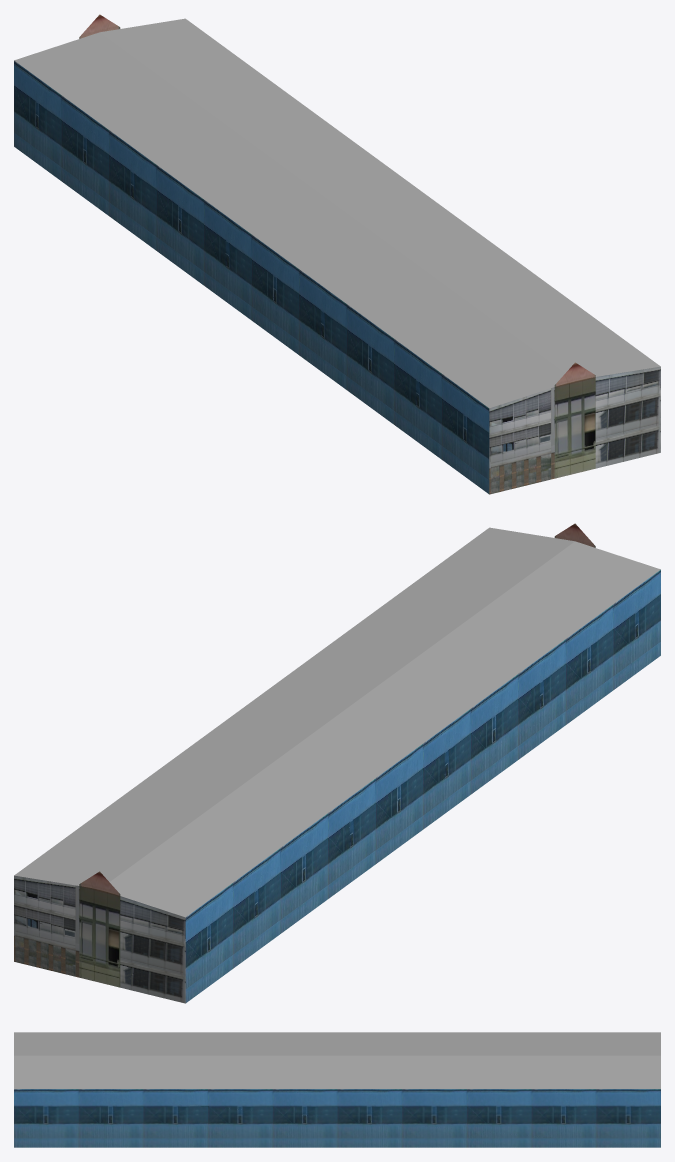
Rendered from KoPf_Rieter.dae.
3 views of the same model, one above another, from view 1: azimuth 30°, elevation 25°; view 2: azimuth 150°, elevation 25°; view 3: azimuth 270°, elevation 25° (orthographic). The views are drawn at different scales.
Parts seen in each view (by area): view 1: SketchUp (×5); view 2: SketchUp (×5); view 3: SketchUp (×2).
Part boxes in pixels (<box>): SketchUp (×5): <box>14,18,660,494</box>; SketchUp (×5): <box>14,527,660,1003</box>; SketchUp (×2): <box>14,1032,660,1147</box>.
Bounding box in the file's own units: 984 × 4724 × 610.
